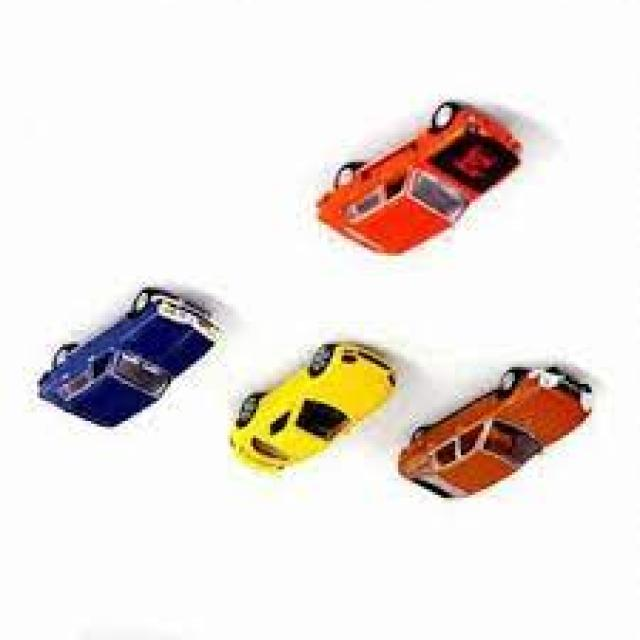Car: (313, 102, 523, 259), (395, 367, 592, 503), (34, 290, 222, 432), (228, 344, 396, 481)
